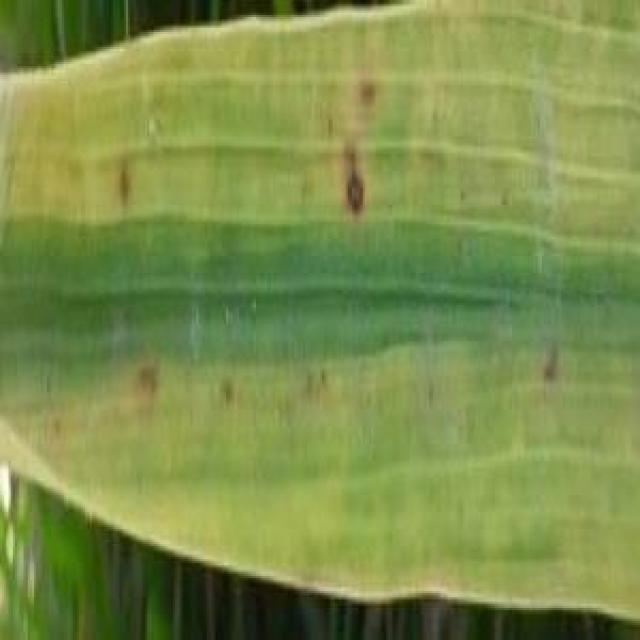Brown_Spot: (334, 148, 375, 225), (535, 339, 569, 389), (128, 359, 175, 395), (354, 77, 381, 100)
